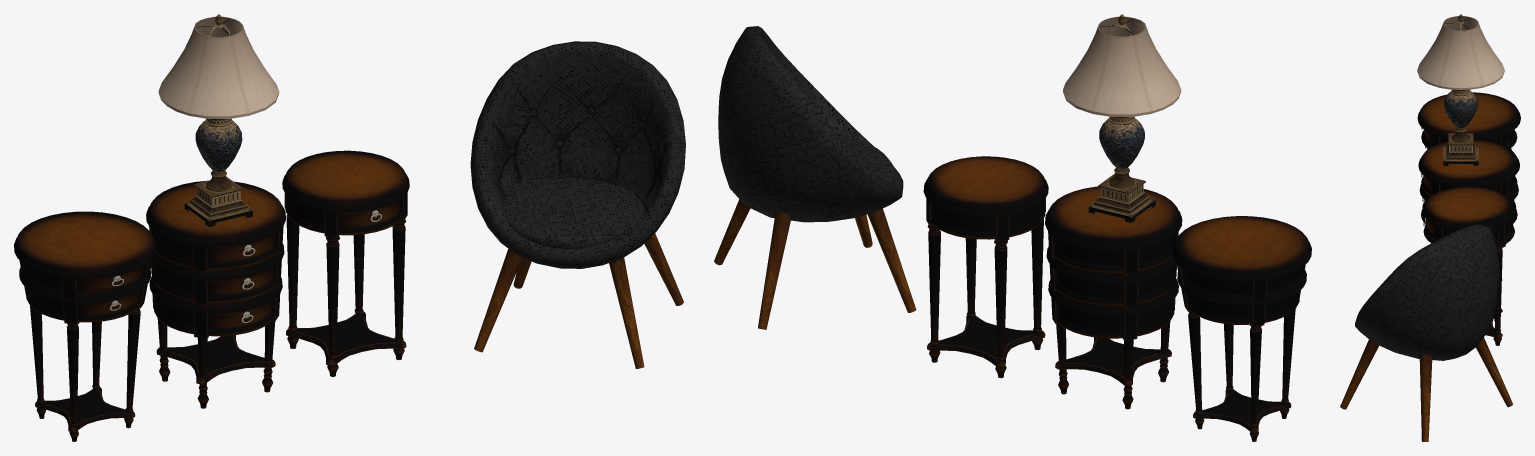
Rendered from compressed_big.glb.
The picture shows the model from 3 angles, left to right: view 1: azimuth 30°, elevation 25°; view 2: azimuth 150°, elevation 25°; view 3: azimuth 270°, elevation 25°; orthographic projection. The views are drawn at different scales.
Visible parts, largest first — view 1: endtable1 top _low_endtable1_0, chairlegs_low.001_chair1_0, lampscrew_low.001_lamp01_0; view 2: endtable1 top _low_endtable1_0, chairlegs_low.001_chair1_0, lampscrew_low.001_lamp01_0; view 3: chairlegs_low.001_chair1_0, endtable1 top _low_endtable1_0, lampscrew_low.001_lamp01_0.
Part boxes in pixels (x1,y1,x2,y2): endtable1 top _low_endtable1_0: [14, 150, 409, 441]; chairlegs_low.001_chair1_0: [470, 41, 685, 368]; lampscrew_low.001_lamp01_0: [158, 14, 279, 227]; endtable1 top _low_endtable1_0: [923, 156, 1311, 441]; chairlegs_low.001_chair1_0: [714, 26, 916, 329]; lampscrew_low.001_lamp01_0: [1063, 14, 1181, 222]; chairlegs_low.001_chair1_0: [1340, 224, 1512, 441]; endtable1 top _low_endtable1_0: [1417, 92, 1520, 345]; lampscrew_low.001_lamp01_0: [1417, 14, 1504, 165].
Bounding box in the file's own units: 2.87 × 1.66 × 0.9843.
3 materials, 3 textured.
